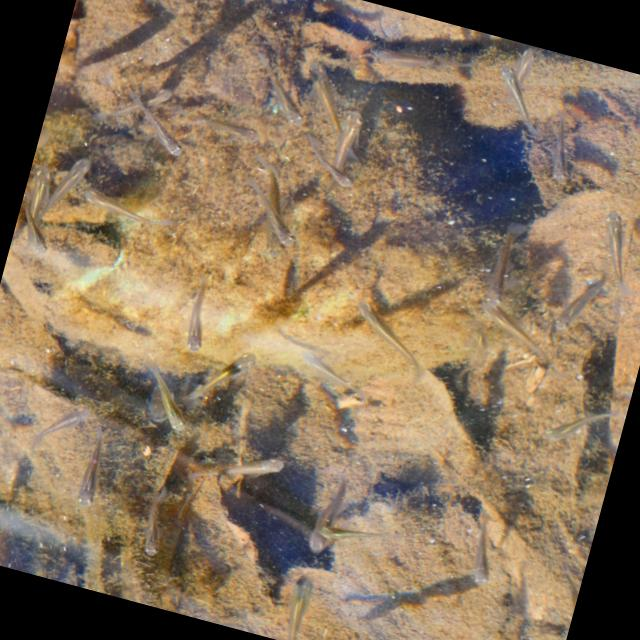Sivrisinek Baligi: (333, 292, 445, 386), (230, 51, 324, 136), (220, 165, 311, 250), (179, 334, 260, 424), (73, 180, 185, 245), (185, 431, 288, 501), (114, 96, 206, 166), (120, 357, 202, 435), (438, 506, 512, 590), (477, 56, 552, 134), (536, 390, 620, 457), (579, 203, 640, 295), (65, 417, 119, 518), (166, 268, 226, 354), (546, 270, 613, 346), (530, 108, 589, 194), (27, 388, 100, 451), (476, 234, 528, 310), (302, 142, 362, 191)
